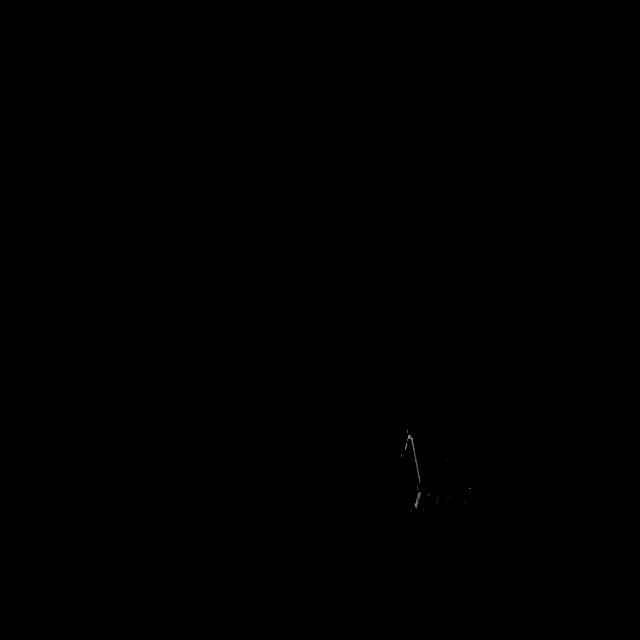satellite: (395, 411, 494, 519)
